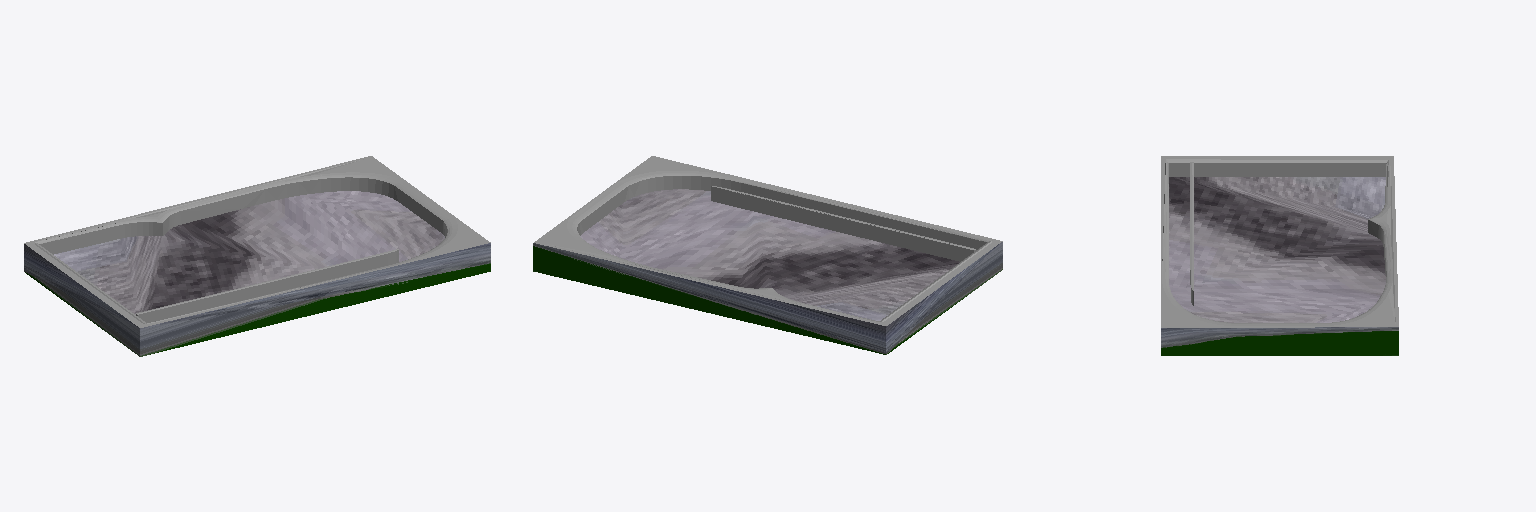
The picture shows the model from 3 angles: view 1: azimuth 30°, elevation 25°; view 2: azimuth 150°, elevation 25°; view 3: azimuth 270°, elevation 25°; orthographic projection.
Visible parts, largest first — view 1: Board_Cube.006; view 2: Board_Cube.006; view 3: Board_Cube.006.
Part boxes in pixels (x1,y1,x2,y2): Board_Cube.006: (24,156,490,356); Board_Cube.006: (533,156,1002,354); Board_Cube.006: (1161,156,1398,355).
Size of the model in its own units: 28.4 by 2.28 by 16.7.
3 materials, 1 textured.